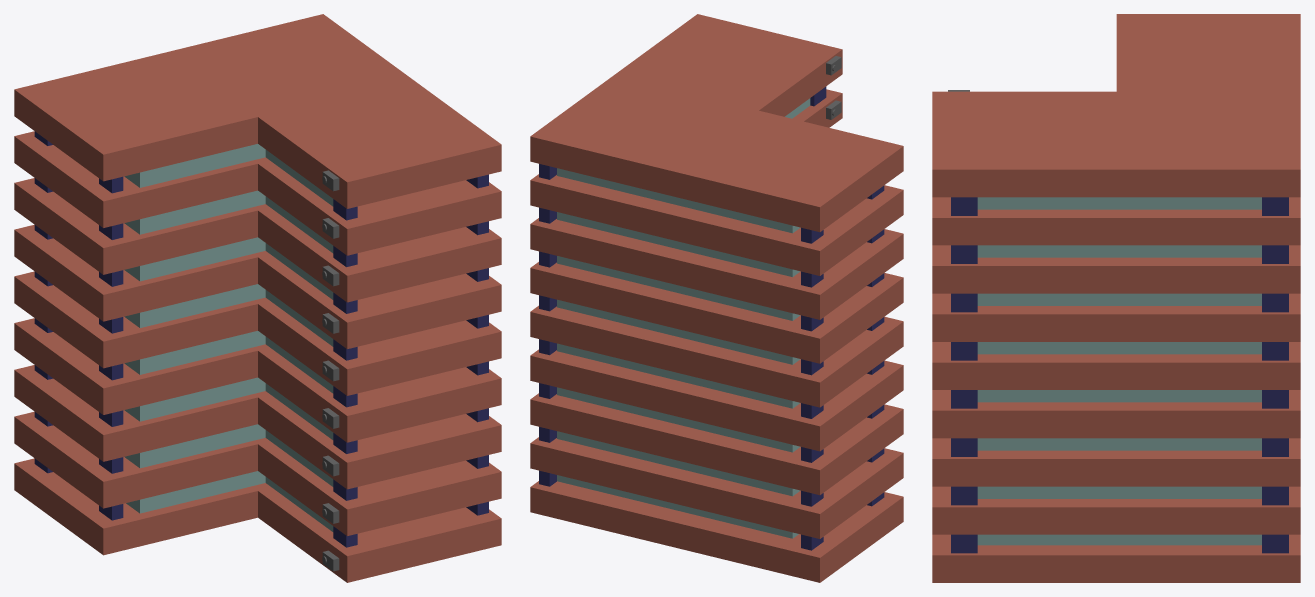
Rendered from Building_3.fbx.
3 renders of one model, left to right at view 1: azimuth 30°, elevation 25°; view 2: azimuth 150°, elevation 25°; view 3: azimuth 270°, elevation 25°, orthographic. The views are drawn at different scales.
Parts seen in each view (by area): view 1: pCylinder16; view 2: pCylinder16; view 3: pCylinder16.
Boxes of the visible parts, x1,y1,x2,y2 form: pCylinder16: [14, 14, 501, 582]; pCylinder16: [530, 14, 903, 582]; pCylinder16: [932, 14, 1300, 582].
Bounding box in the file's own units: 3.52 × 4.36 × 3.52.
